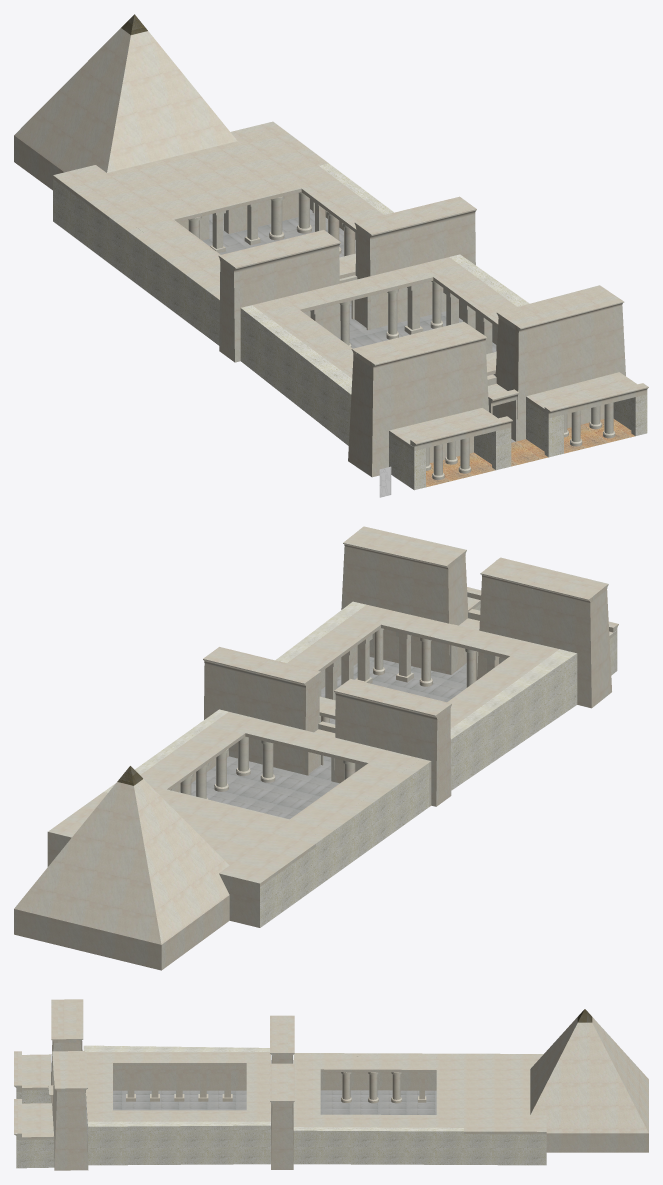
Rendered from Neferrenpet.glb.
3 views of the same model, one above another, from view 1: azimuth 30°, elevation 25°; view 2: azimuth 150°, elevation 25°; view 3: azimuth 270°, elevation 25° (orthographic). The views are drawn at different scales.
Visible parts, largest first — view 1: Mesh65 Component_4_1 Model, Mesh10 Pyramid1 Model, Mesh64 Roof2_1 Model, Mesh63 Roof1_1 Model, Mesh67 Model, Mesh66 Model, Mesh68 Model, Mesh4 Pylon_Gate1 Model, Mesh71 Model, Mesh69 Model, Mesh62 Component_8_1 Model, Mesh59 Component_5_1 Model (+1 smaller); view 2: Mesh65 Component_4_1 Model, Mesh10 Pyramid1 Model, Mesh64 Roof2_1 Model, Mesh63 Roof1_1 Model, Mesh68 Model, Mesh70 Model, Mesh72 Model, Mesh61 Component_6_1 Model, Mesh60 Component_5_2 Model, Mesh4 Pylon_Gate1 Model, Mesh9 pylon2gate1 Model, Mesh37 Square_Column13 Model; view 3: Mesh65 Component_4_1 Model, Mesh10 Pyramid1 Model, Mesh64 Roof2_1 Model, Mesh63 Roof1_1 Model, Mesh67 Model, Mesh66 Model, Mesh68 Model, Mesh61 Component_6_1 Model, Mesh19 Square_Column1 Model, Mesh20 Square_Column2 Model, Mesh21 Square_Column3 Model, Mesh22 Square_Column4 Model (+11 smaller).
Boxes of the visible parts, x1=… form: Mesh65 Component_4_1 Model: x1=53, y1=121, x2=647, y2=490; Mesh10 Pyramid1 Model: x1=14, y1=14, x2=237, y2=190; Mesh64 Roof2_1 Model: x1=119, y1=166, x2=383, y2=289; Mesh63 Roof1_1 Model: x1=252, y1=257, x2=516, y2=378; Mesh67 Model: x1=526, y1=372, x2=648, y2=418; Mesh66 Model: x1=389, y1=408, x2=512, y2=450; Mesh68 Model: x1=356, y1=325, x2=481, y2=365; Mesh4 Pylon_Gate1 Model: x1=487, y1=374, x2=519, y2=441; Mesh71 Model: x1=367, y1=206, x2=476, y2=239; Mesh69 Model: x1=231, y1=239, x2=340, y2=272; Mesh62 Component_8_1 Model: x1=370, y1=334, x2=487, y2=368; Mesh59 Component_5_1 Model: x1=515, y1=298, x2=624, y2=331; Mesh65 Component_4_1 Model: x1=47, y1=529, x2=617, y2=927; Mesh10 Pyramid1 Model: x1=14, y1=766, x2=229, y2=970; Mesh64 Roof2_1 Model: x1=140, y1=712, x2=420, y2=840; Mesh63 Roof1_1 Model: x1=287, y1=605, x2=559, y2=728; Mesh68 Model: x1=485, y1=561, x2=604, y2=600; Mesh70 Model: x1=334, y1=687, x2=439, y2=720; Mesh72 Model: x1=203, y1=655, x2=308, y2=688; Mesh61 Component_6_1 Model: x1=480, y1=570, x2=592, y2=602; Mesh60 Component_5_2 Model: x1=343, y1=539, x2=450, y2=569; Mesh4 Pylon_Gate1 Model: x1=449, y1=609, x2=480, y2=679; Mesh9 pylon2gate1 Model: x1=305, y1=721, x2=335, y2=781; Mesh37 Square_Column13 Model: x1=396, y1=632, x2=413, y2=682; Mesh65 Component_4_1 Model: x1=16, y1=1015, x2=546, y2=1170; Mesh10 Pyramid1 Model: x1=530, y1=1009, x2=648, y2=1152; Mesh64 Roof2_1 Model: x1=293, y1=1056, x2=463, y2=1127; Mesh63 Roof1_1 Model: x1=85, y1=1052, x2=270, y2=1121; Mesh67 Model: x1=14, y1=1099, x2=54, y2=1139; Mesh66 Model: x1=14, y1=1051, x2=50, y2=1091; Mesh68 Model: x1=58, y1=999, x2=76, y2=1042; Mesh61 Component_6_1 Model: x1=76, y1=999, x2=83, y2=1042; Mesh19 Square_Column1 Model: x1=126, y1=1065, x2=135, y2=1101; Mesh20 Square_Column2 Model: x1=150, y1=1065, x2=159, y2=1101; Mesh21 Square_Column3 Model: x1=174, y1=1065, x2=184, y2=1101; Mesh22 Square_Column4 Model: x1=198, y1=1065, x2=208, y2=1101.
Size of the model in its own units: 16.1 by 9.11 by 44.65.
Materials: 7 (6 with a texture image).
